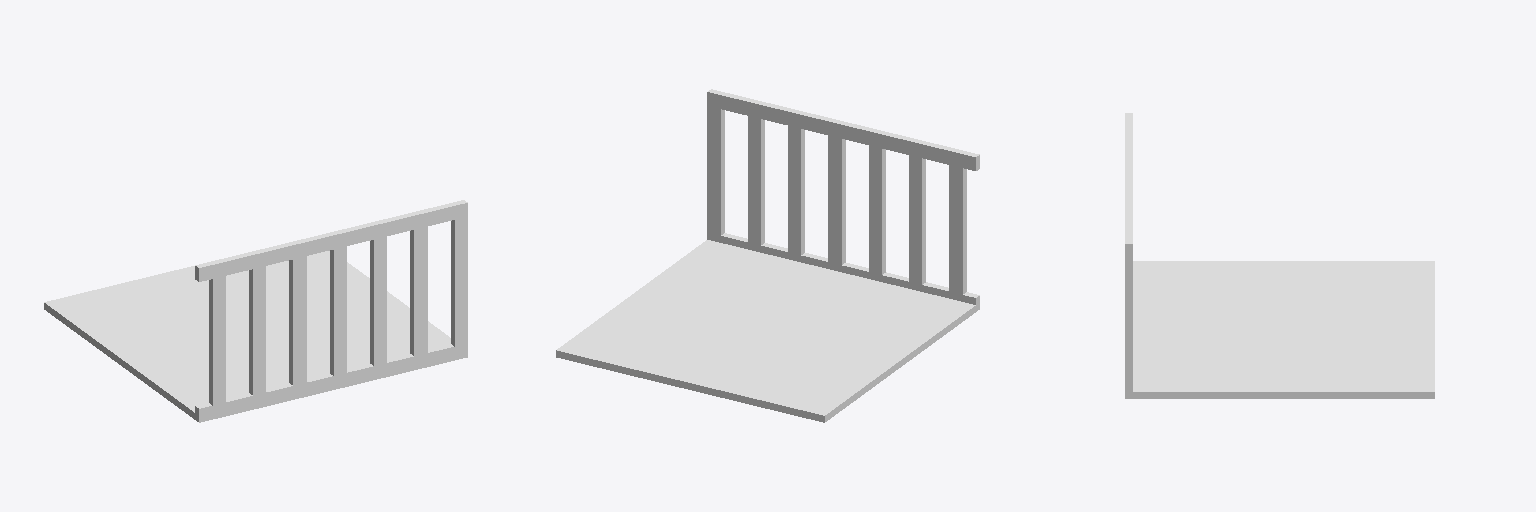
The picture shows the model from 3 angles: view 1: azimuth 30°, elevation 25°; view 2: azimuth 150°, elevation 25°; view 3: azimuth 270°, elevation 25°; orthographic projection.
Visible parts, largest first — view 1: object 1; view 2: object 1; view 3: object 1.
Boxes of the visible parts, box(x1,y1,x2,y2) form: object 1: box(44, 200, 467, 422); object 1: box(556, 89, 979, 422); object 1: box(1125, 113, 1434, 398).
Size of the model in its own units: 4 by 2.2 by 4.
Materials: 1 (1 with a texture image).